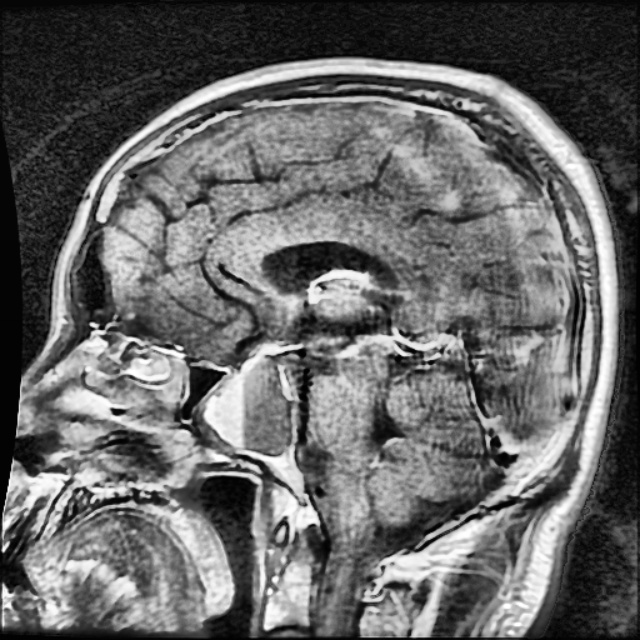Pituitary: (194, 335, 302, 458)
